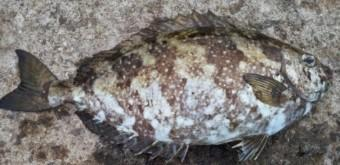fish: (0, 11, 331, 161)
